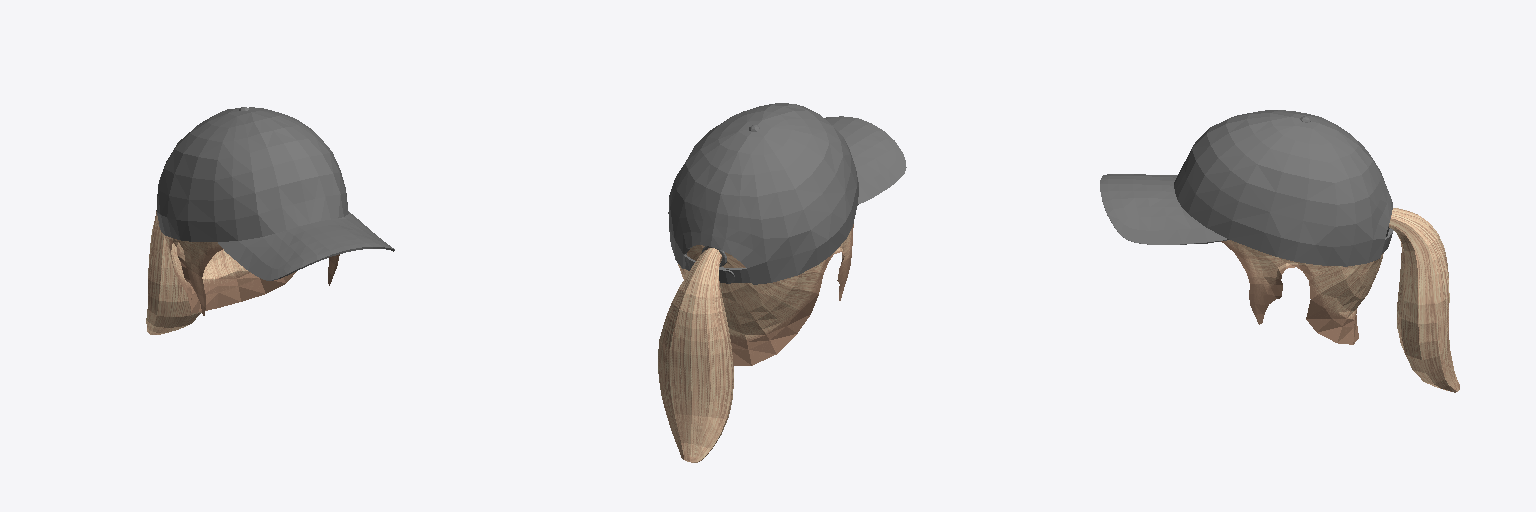
3 views of the same model, side by side, from view 1: azimuth 30°, elevation 25°; view 2: azimuth 150°, elevation 25°; view 3: azimuth 270°, elevation 25° (orthographic).
Bounding box in the file's own units: 16.51 × 27.73 × 32.46.
Materials: 3 (1 with a texture image).